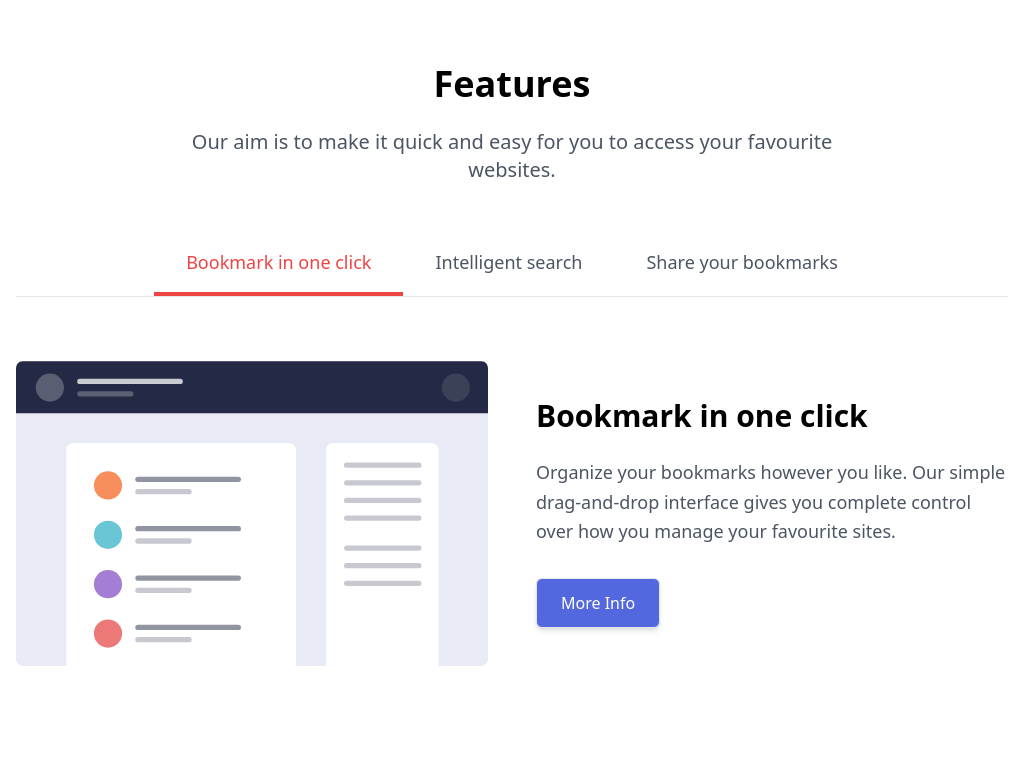
it: Features Component › changes content when clicking different tabs
The image size is (1024, 768).
Click the button "Intelligent search".
click(509, 264)  # box [403, 232, 614, 296]
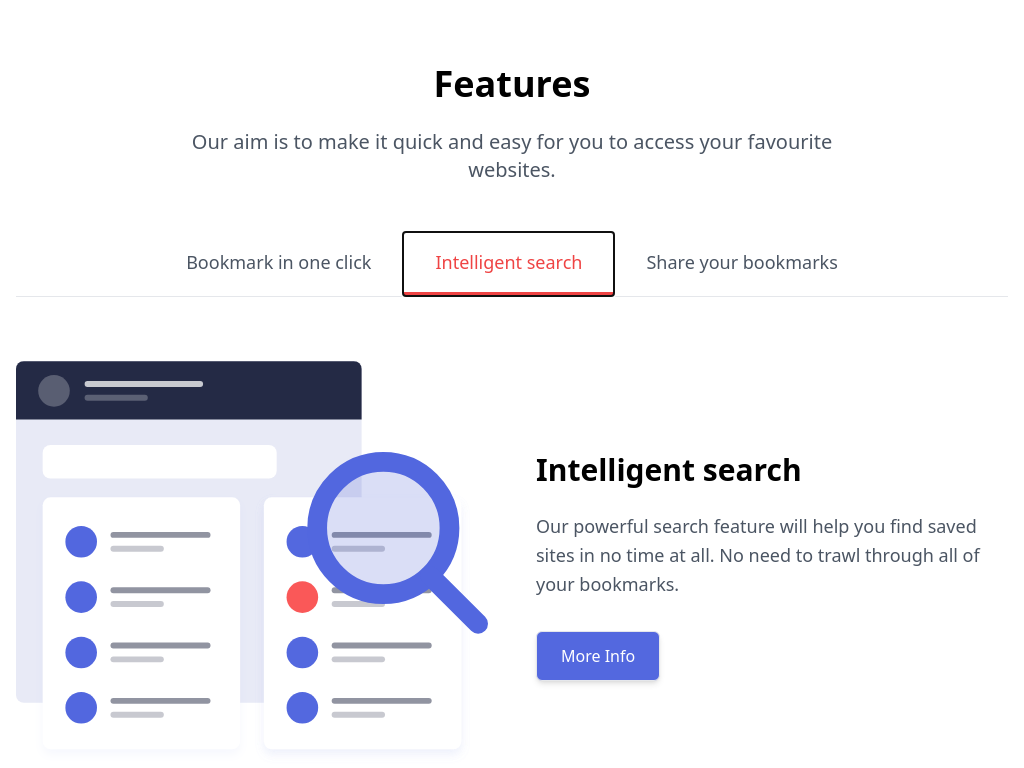
Expected: the text "Our powerful search feature will help you find saved sites in no time at all. No need to trawl through all of your bookm" is shown, [536, 514, 980, 596]
Click the button "Share your bookmarks".
click(742, 264)  # box [614, 232, 870, 296]
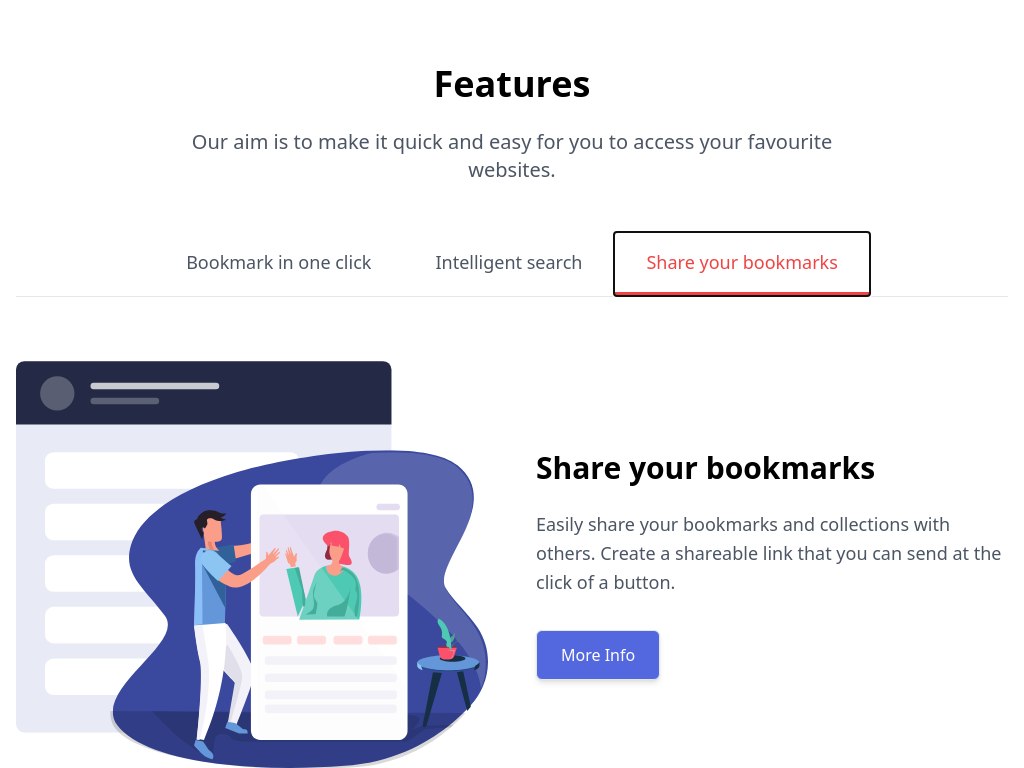
Expected: the text "Easily share your bookmarks and collections with others. Create a shareable link that you can send at the click of a but" is shown, [536, 512, 1002, 594]
Expected: the picture with alt text "Share your bookmarks" is shown, [16, 361, 488, 767]
